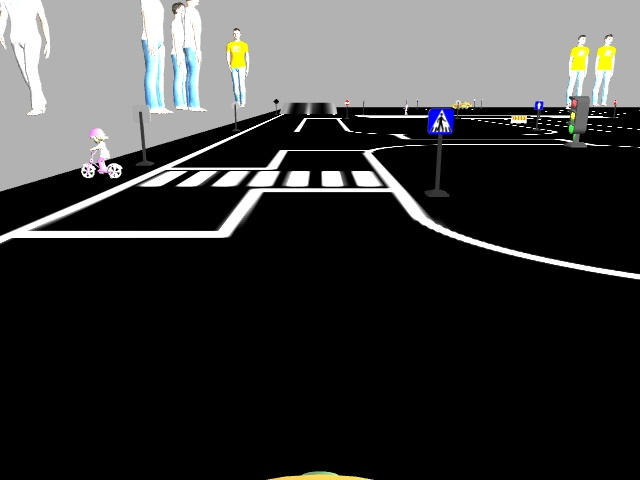Crosswalk: (425, 106, 455, 136)
Pedestrian: (75, 125, 125, 180)
TrafficLight: (566, 94, 591, 136)
